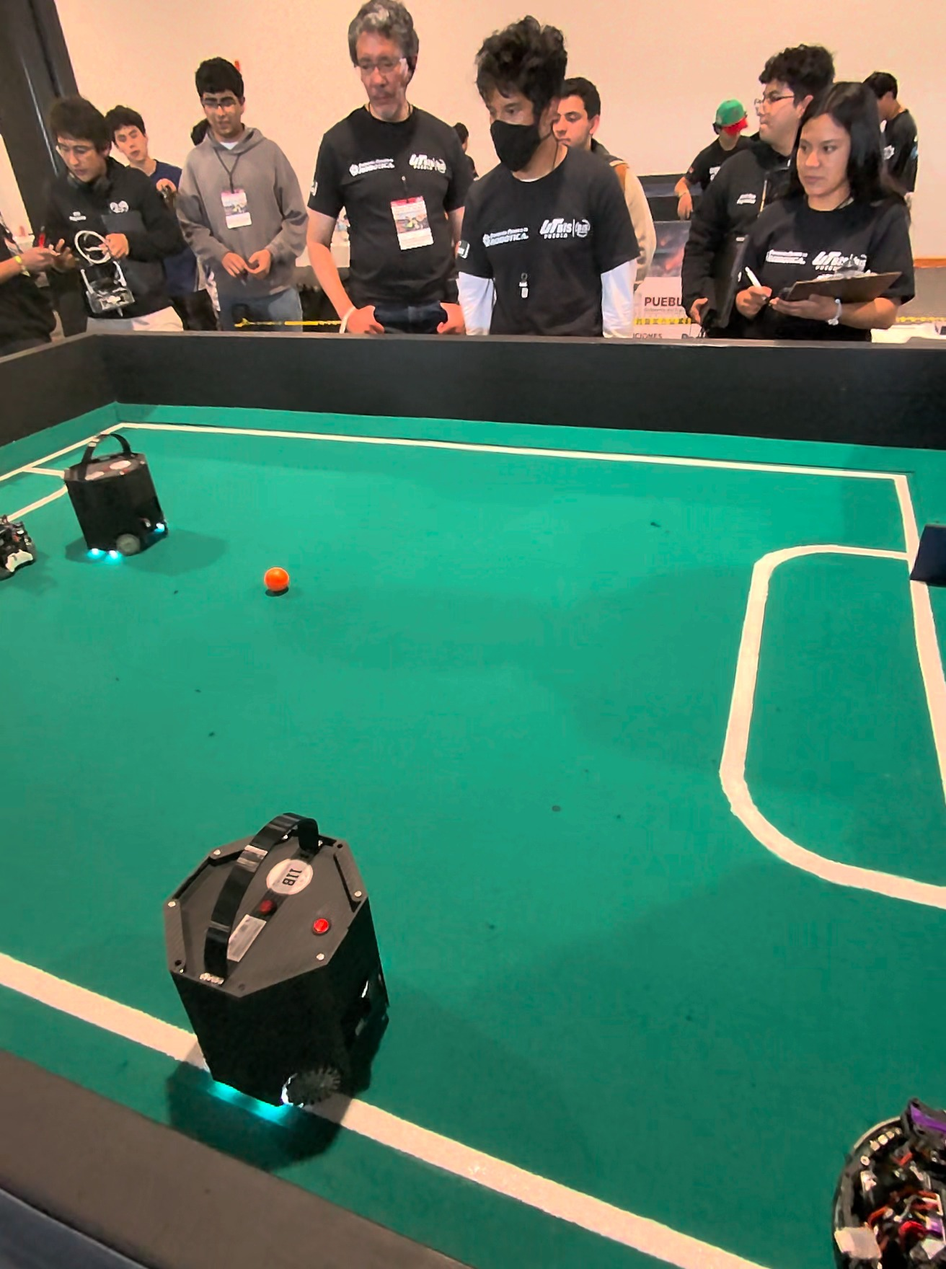Robot: (158, 799, 422, 1160), (826, 1096, 946, 1269), (58, 426, 179, 577), (0, 476, 39, 596)
pelota: (259, 561, 295, 599)
